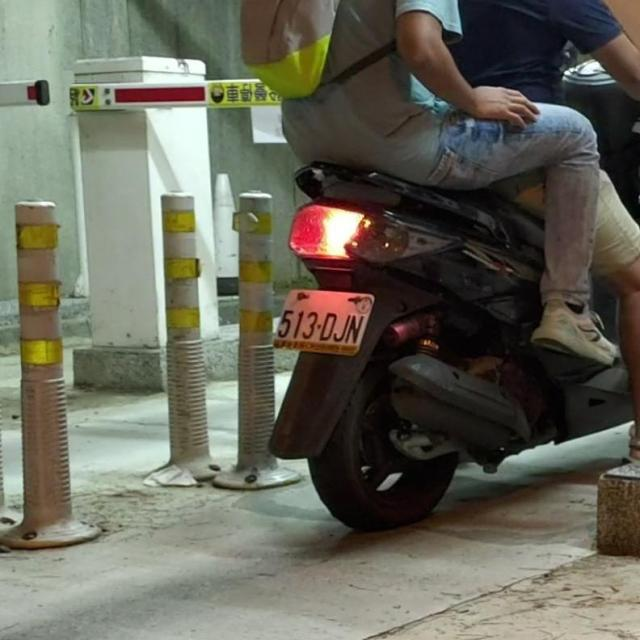W: (272, 283, 378, 357)
